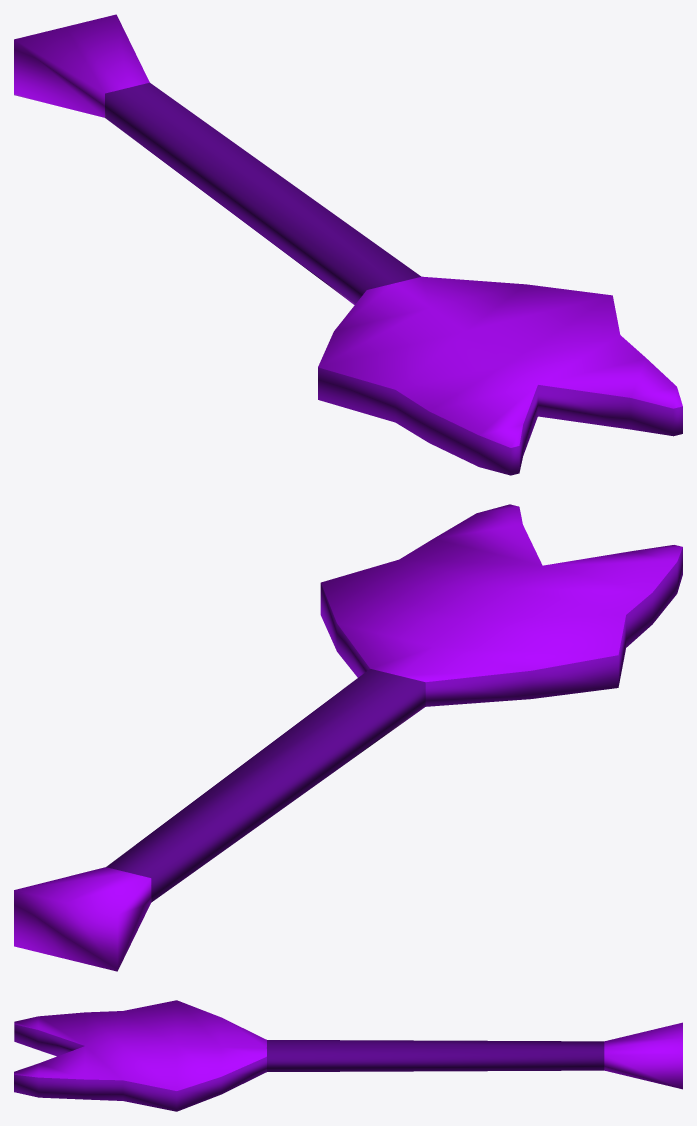
Rendered from Arma.obj.
The picture shows the model from 3 angles, top to bottom: view 1: azimuth 30°, elevation 25°; view 2: azimuth 150°, elevation 25°; view 3: azimuth 270°, elevation 25°; orthographic projection. The views are drawn at different scales.
Parts seen in each view (by area): view 1: Cube_Cube.001; view 2: Cube_Cube.001; view 3: Cube_Cube.001.
Boxes of the visible parts, x1,y1,x2,y2 form: Cube_Cube.001: (14,14,682,475); Cube_Cube.001: (14,504,682,971); Cube_Cube.001: (14,1000,682,1111).
Size of the model in its own units: 3.62 by 0.6529 by 11.23.
